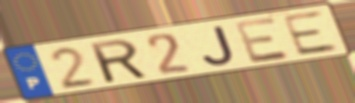2: (48, 46, 98, 91), (146, 32, 193, 77)
E: (231, 15, 294, 65), (279, 9, 342, 58)
J: (201, 24, 238, 67)
R: (87, 37, 152, 85)
